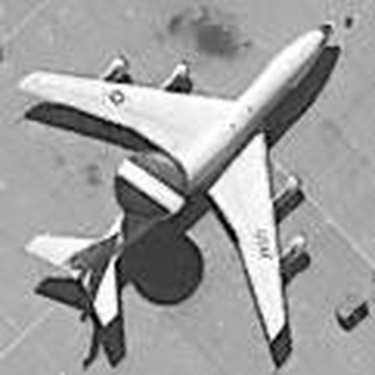airplane: (20, 13, 346, 358)
